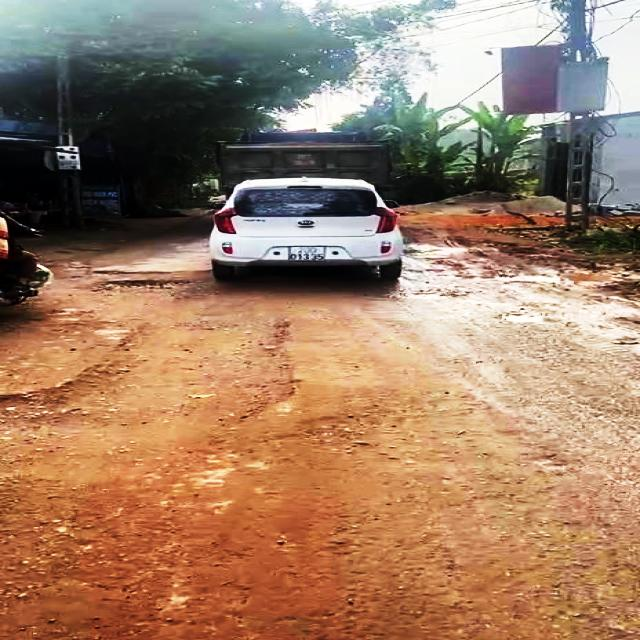pothole: (0, 322, 297, 431), (94, 277, 193, 294)
